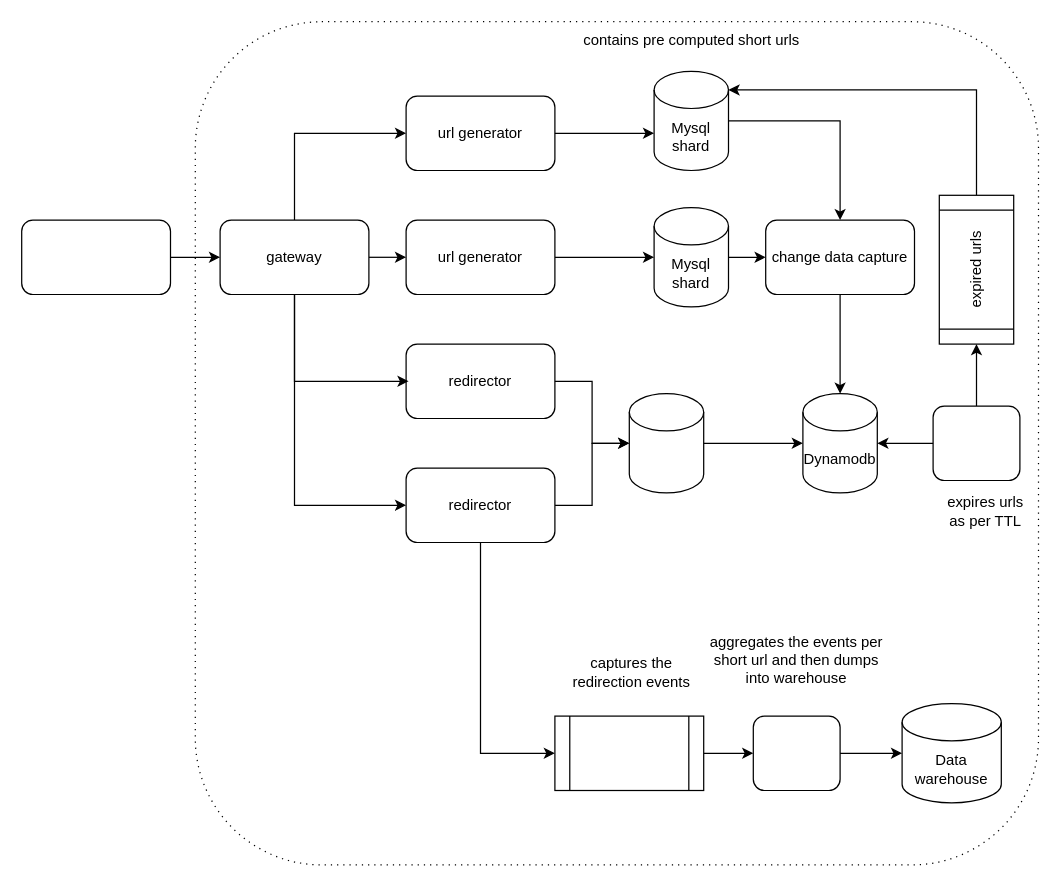
The diagram is 1060 pixels wide and 887 high, and some of its shapes have lost their labels. The centre of each missing label's shape, as x and y in pixels:
"archiver" goes at point (976, 442).
"flink" goes at point (796, 752).
"redirection kafka" goes at point (629, 752).
"Redis" goes at point (666, 442).
"user" goes at point (95, 256).
